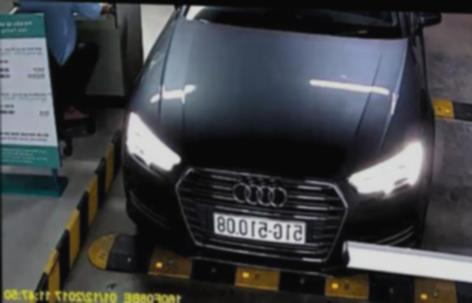License_Plate: (214, 213, 305, 242)
